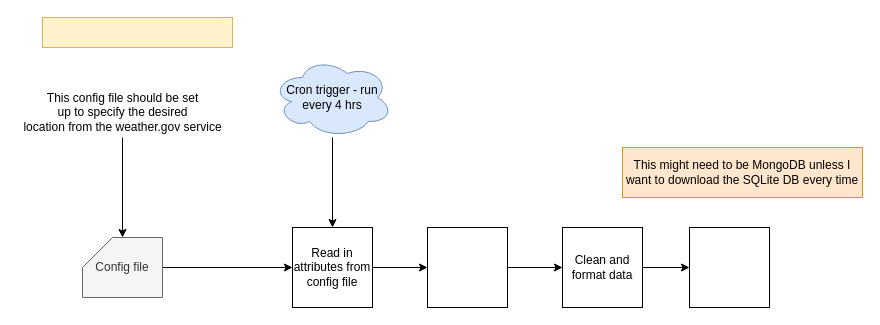
Some shapes in this 880 by 325 pixel diagram are drawn without their labels. Each missing label, with the box of its shape:
Process 1: Refresh from Web: (42, 16, 232, 48)
Pull data from weather service: (426, 226, 508, 308)
Save current run's details to SQlite DB: (688, 226, 770, 308)
